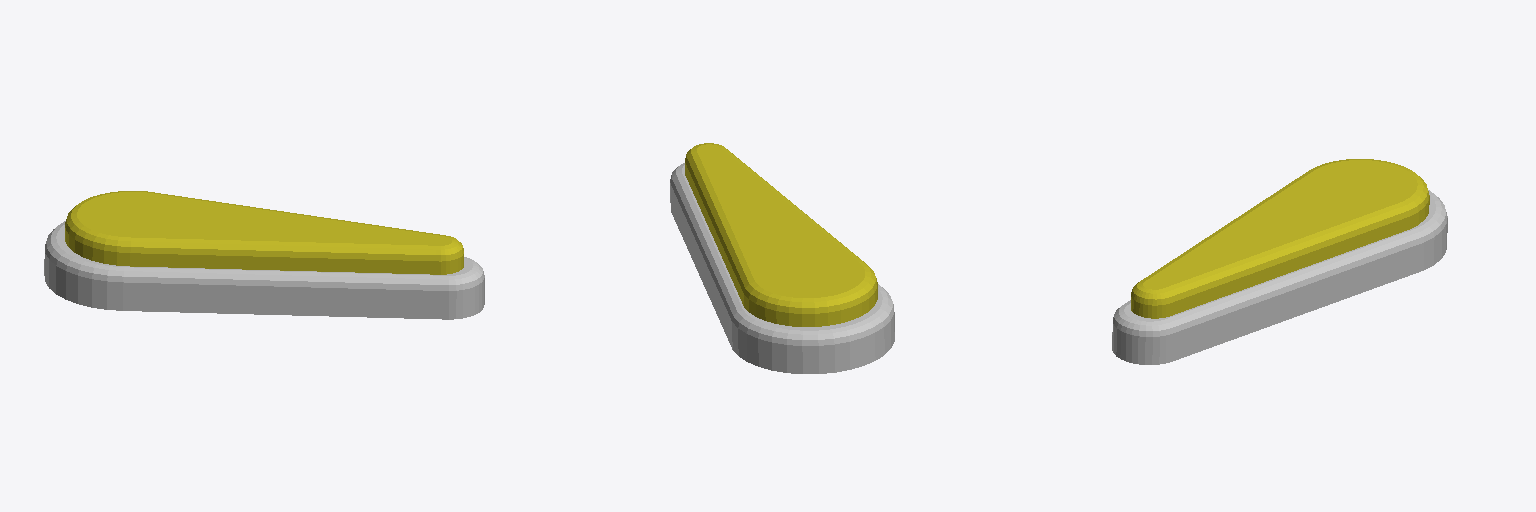
Rendered from Bumper.obj.
3 views of the same model, side by side, from view 1: azimuth 30°, elevation 25°; view 2: azimuth 150°, elevation 25°; view 3: azimuth 270°, elevation 25° (orthographic).
Parts seen in each view (by area): view 1: Flipper; view 2: Flipper; view 3: Flipper.
Part boxes in pixels (x1,y1,x2,y2): Flipper: (44,191,484,319); Flipper: (670,143,894,373); Flipper: (1112,159,1447,364).
Bounding box in the file's own units: 0.5351 × 0.1049 × 0.4909.